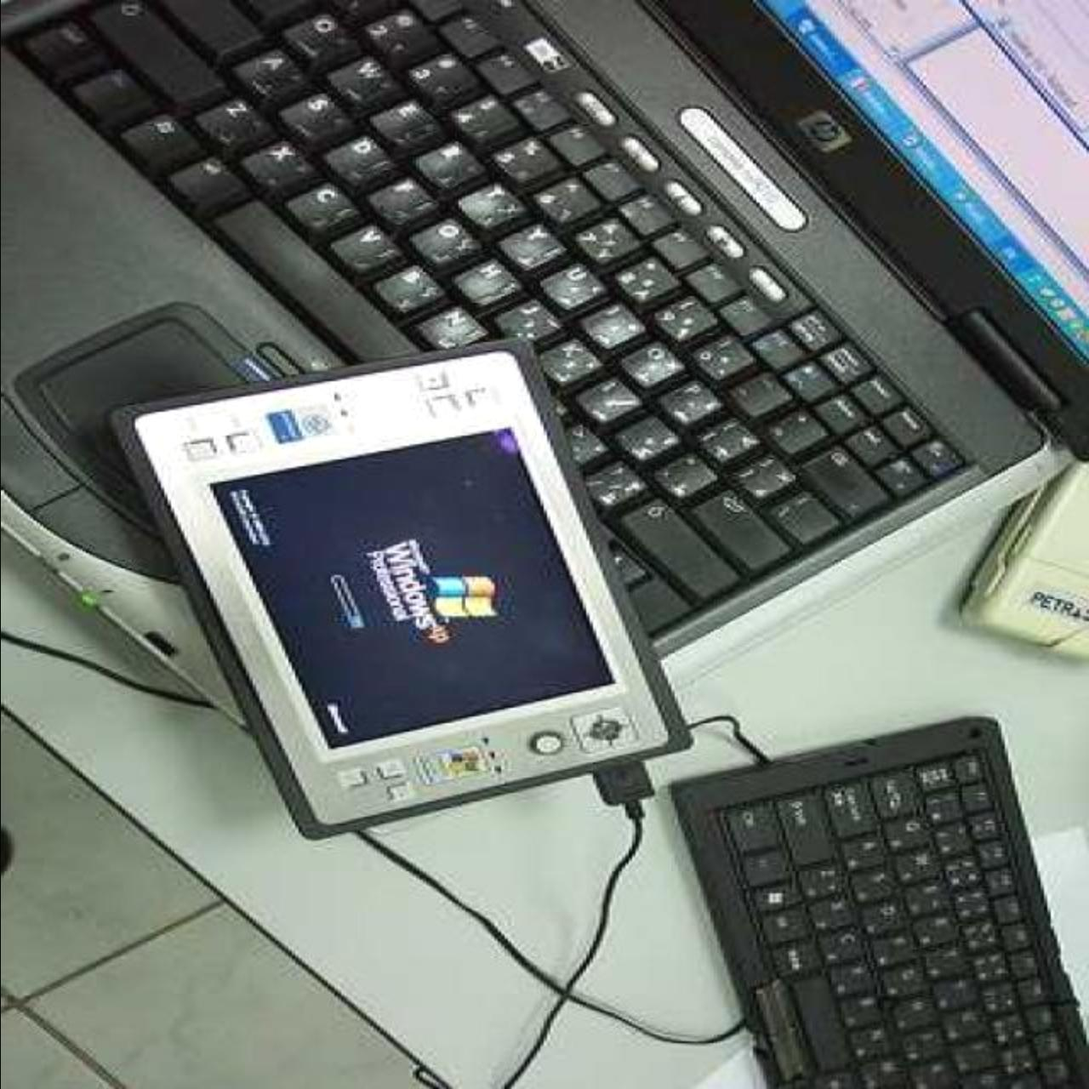laptop: (0, 0, 1089, 684)
